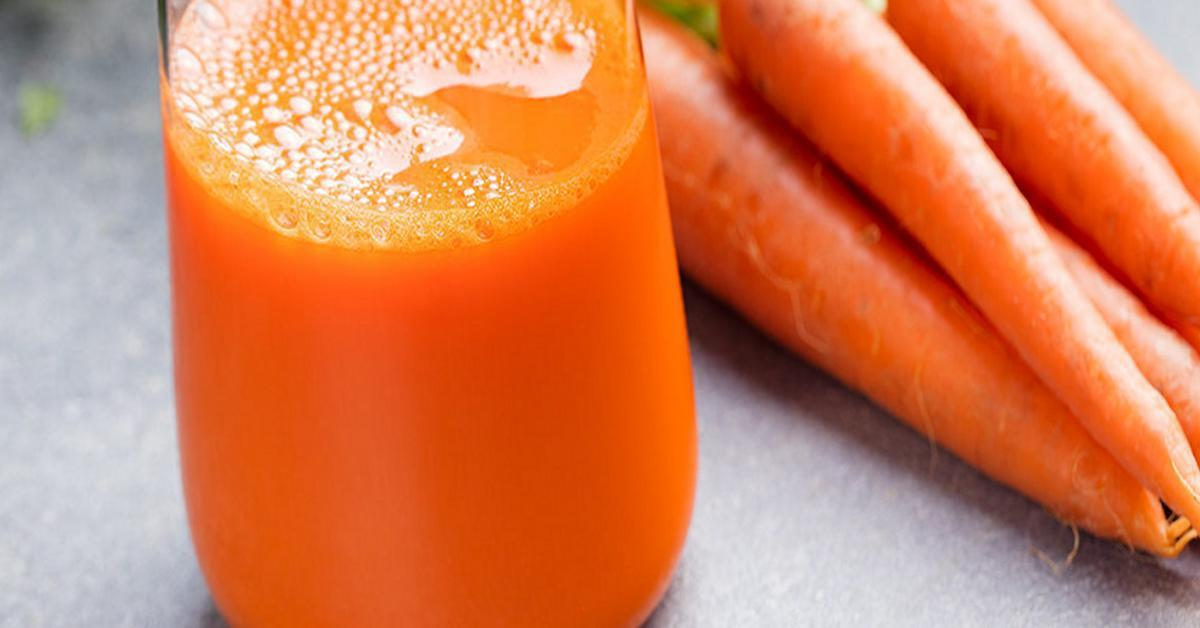carrot: (656, 0, 1200, 526)
